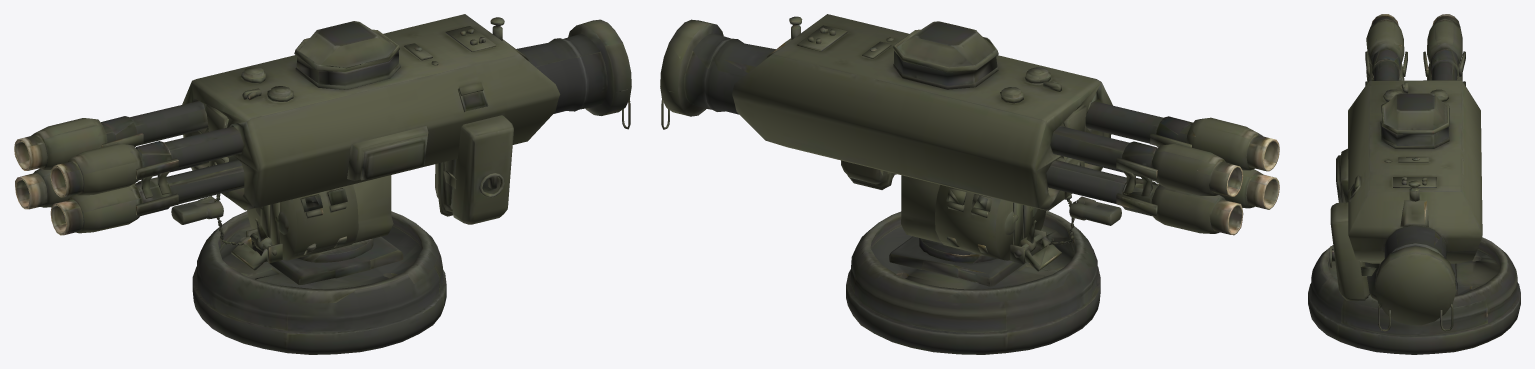
The model's file is t_minigun_1.glb.
3 renders of one model, left to right at view 1: azimuth 30°, elevation 25°; view 2: azimuth 150°, elevation 25°; view 3: azimuth 270°, elevation 25°, orthographic. The views are drawn at different scales.
Bounding box in the file's own units: 0.9512 × 0.4179 × 0.3667.
1 material, 1 textured.
